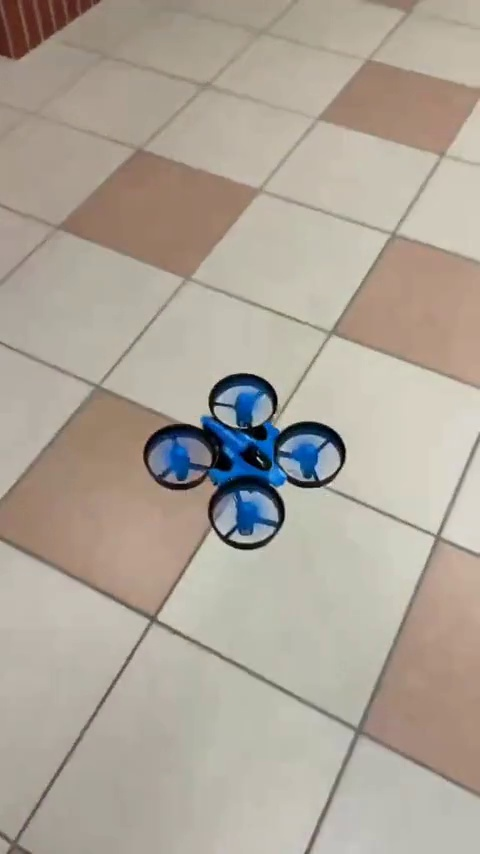drone: (144, 375, 349, 548)
